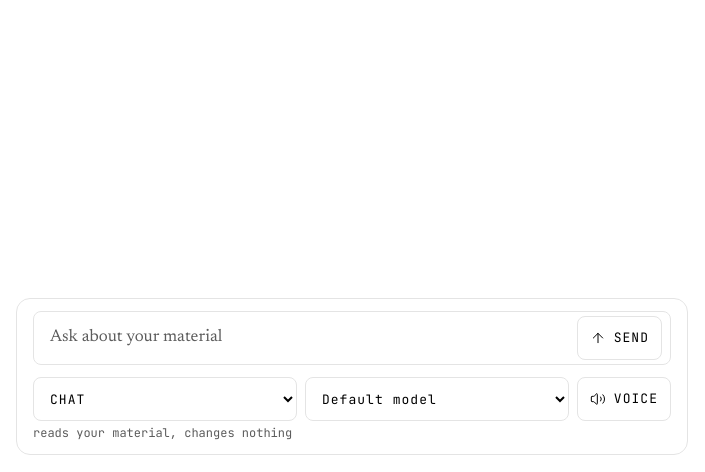
it: the agent bar › conversations › reaches the history from the edge of the panel
The width and height of the screenshot is (705, 472).
Click the text box labelled "Ask about your material" at (305, 338), box left=42, top=316, right=569, bottom=360
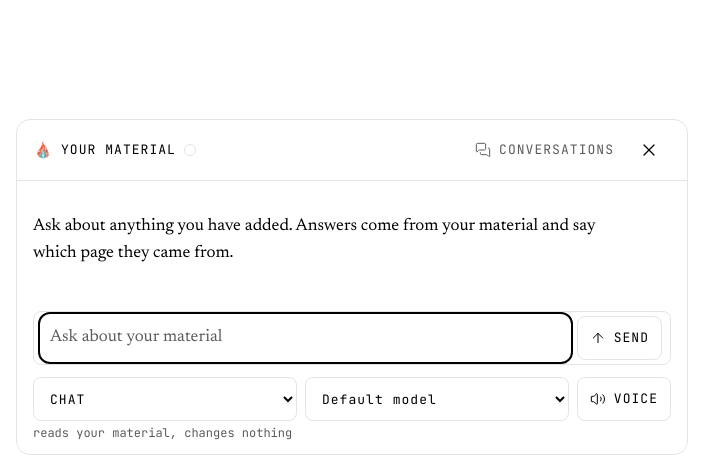
Expected: the button "measure theory" is not shown
Click the button "Conversations" at (545, 150), box left=466, top=128, right=623, bottom=172
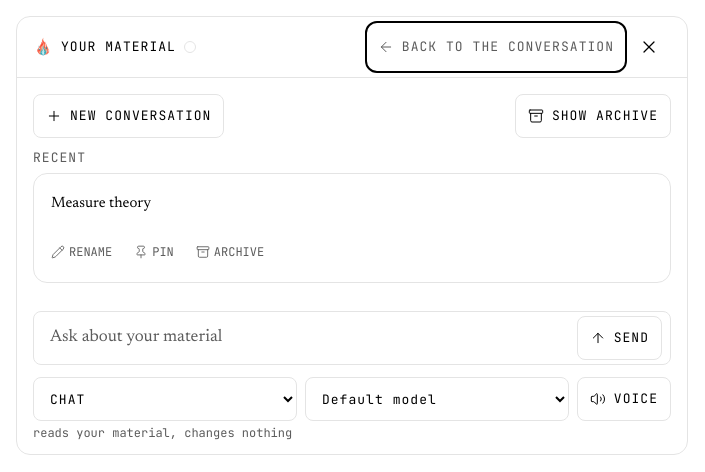
Expected: the button "Measure theory" is shown, left=42, top=182, right=662, bottom=226
